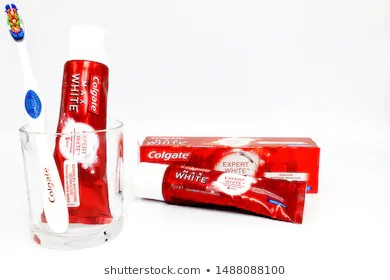toothbrush: (1, 2, 71, 237)
